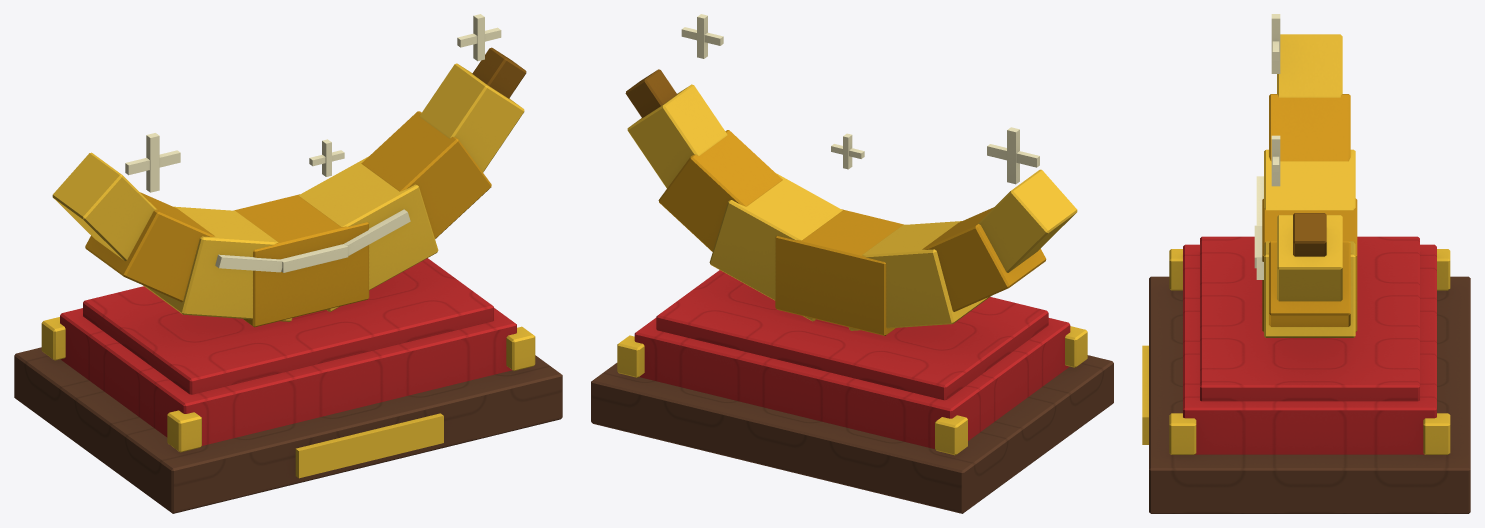
File: GoldenBanana.fbx
The picture shows the model from 3 angles, left to right: view 1: azimuth 30°, elevation 25°; view 2: azimuth 150°, elevation 25°; view 3: azimuth 270°, elevation 25°; orthographic projection. The views are drawn at different scales.
Parts seen in each view (by area): view 1: Art_GoldenBanana; view 2: Art_GoldenBanana; view 3: Art_GoldenBanana.
Part boxes in pixels (x1=…): Art_GoldenBanana: x1=14, y1=14, x2=562, y2=513; Art_GoldenBanana: x1=591, y1=14, x2=1113, y2=513; Art_GoldenBanana: x1=1142, y1=14, x2=1470, y2=513.
Size of the model in its own units: 3.11 by 2.39 by 1.94.
